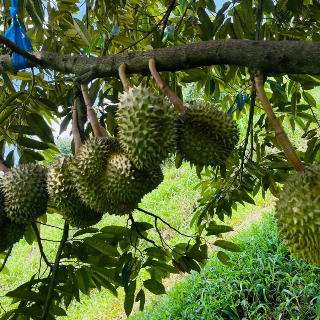sau_rieng: (110, 83, 180, 173), (72, 133, 138, 217), (179, 97, 242, 169)
